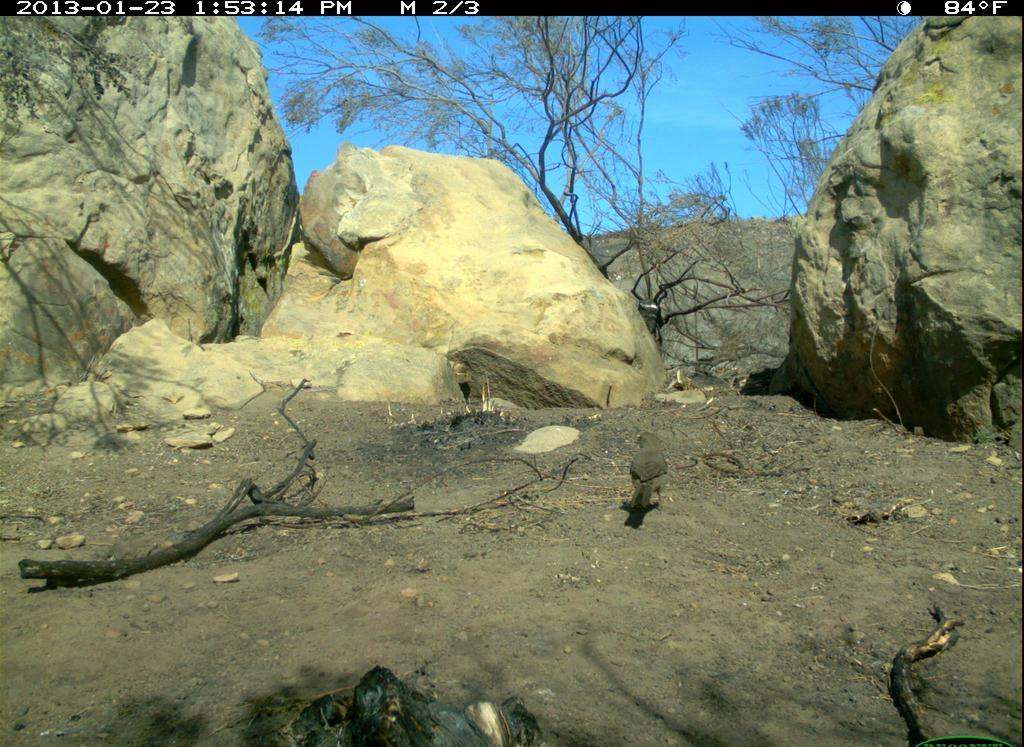bird: (624, 420, 685, 536)
